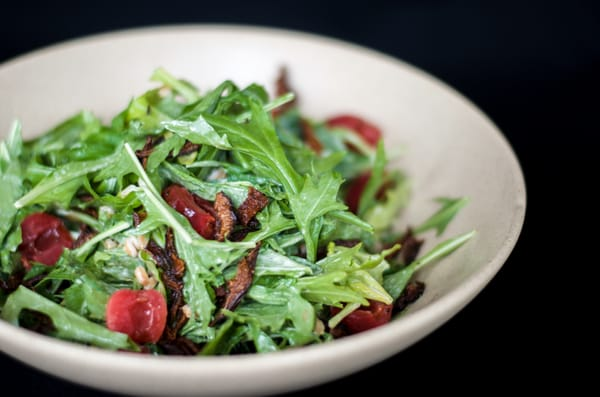sushi: (7, 29, 527, 391)
